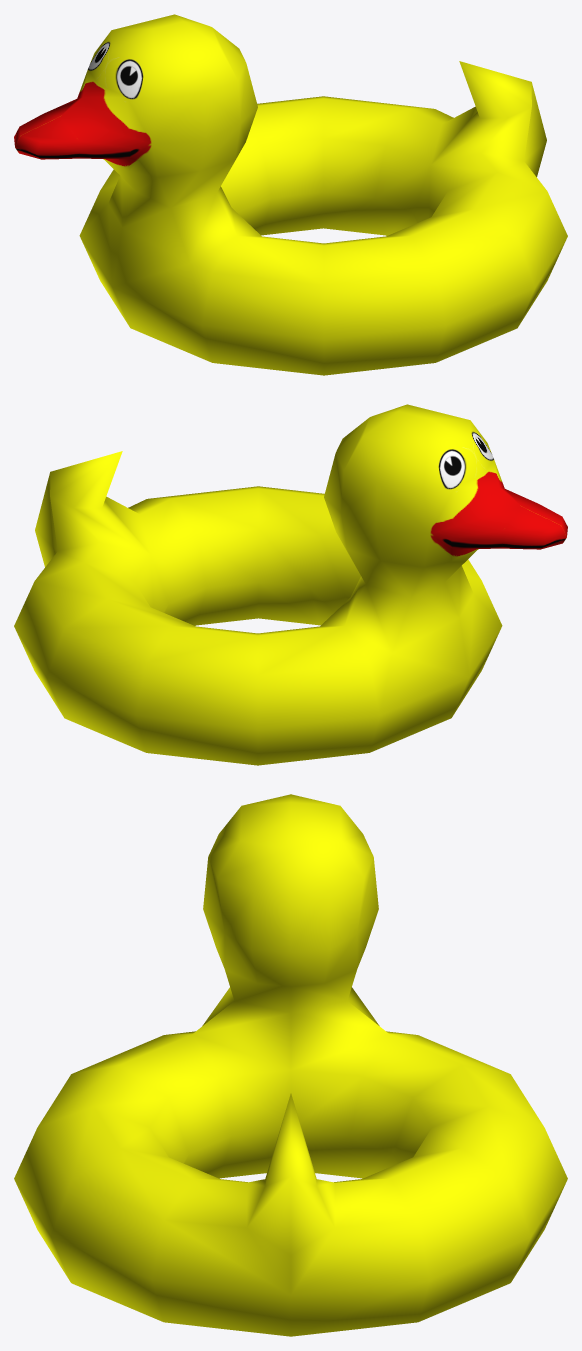
File: DuckInflatable.FBX
3 renders of one model, top to bottom at view 1: azimuth 30°, elevation 25°; view 2: azimuth 150°, elevation 25°; view 3: azimuth 270°, elevation 25°, orthographic. The views are drawn at different scales.
Parts seen in each view (by area): view 1: Ducky; view 2: Ducky; view 3: Ducky.
Part boxes in pixels (bbox=[...]): Ducky: bbox=[14, 14, 567, 375]; Ducky: bbox=[14, 404, 567, 765]; Ducky: bbox=[14, 794, 567, 1336].
Size of the model in its own units: 308 by 173 by 245.
